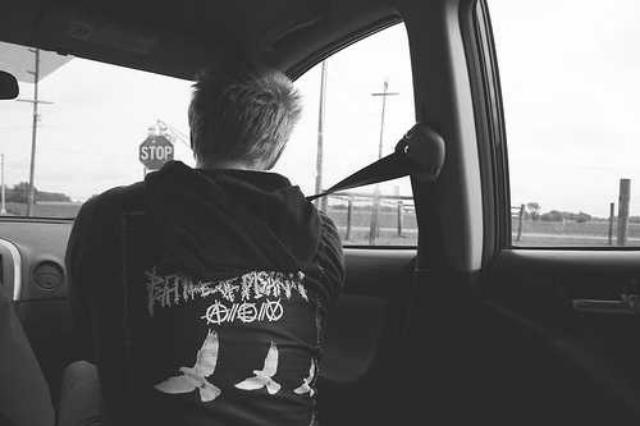Seatbelt: (304, 122, 446, 202)
